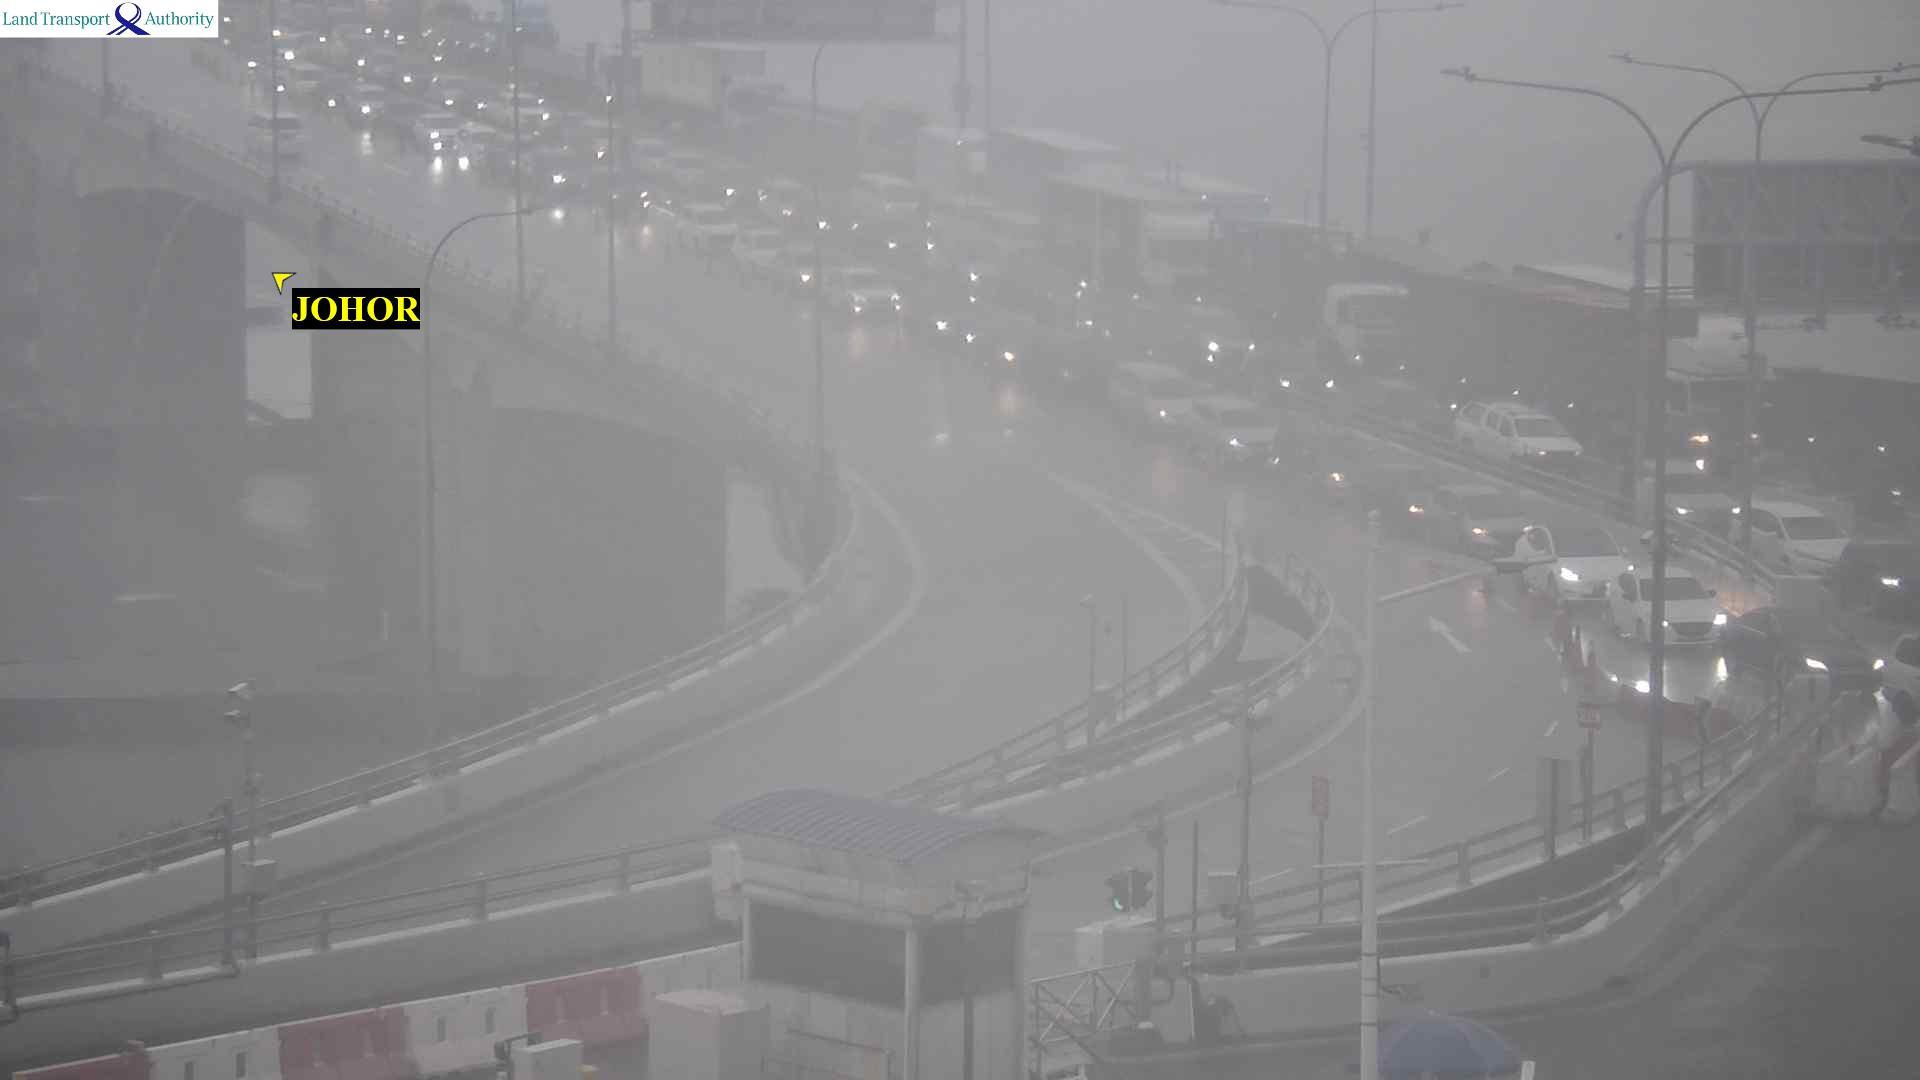vehicle-secondlink-johor: (253, 112, 306, 156)
vehicle-secondlink-singapore: (1510, 261, 1766, 425), (1232, 220, 1412, 359), (1062, 175, 1208, 285), (1721, 603, 1878, 695), (644, 42, 786, 140), (996, 131, 1127, 214), (1444, 397, 1596, 464), (1518, 521, 1635, 600), (1613, 567, 1726, 649), (1739, 495, 1841, 576), (1642, 455, 1745, 533), (1113, 363, 1197, 435), (1192, 398, 1278, 462), (1433, 485, 1520, 543), (825, 265, 891, 318), (671, 202, 732, 248), (1887, 632, 1920, 711), (281, 55, 327, 103), (454, 123, 505, 164), (417, 113, 460, 158), (344, 84, 386, 129)
